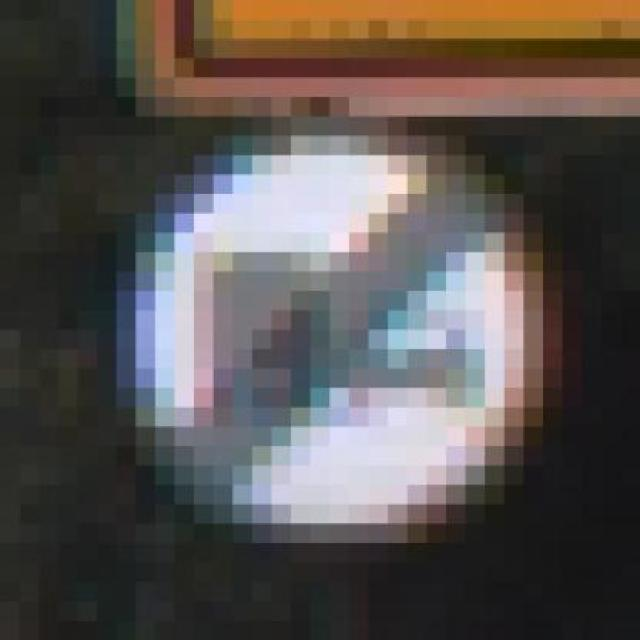Overtaking by trucks is prohibited: (77, 116, 601, 562)
